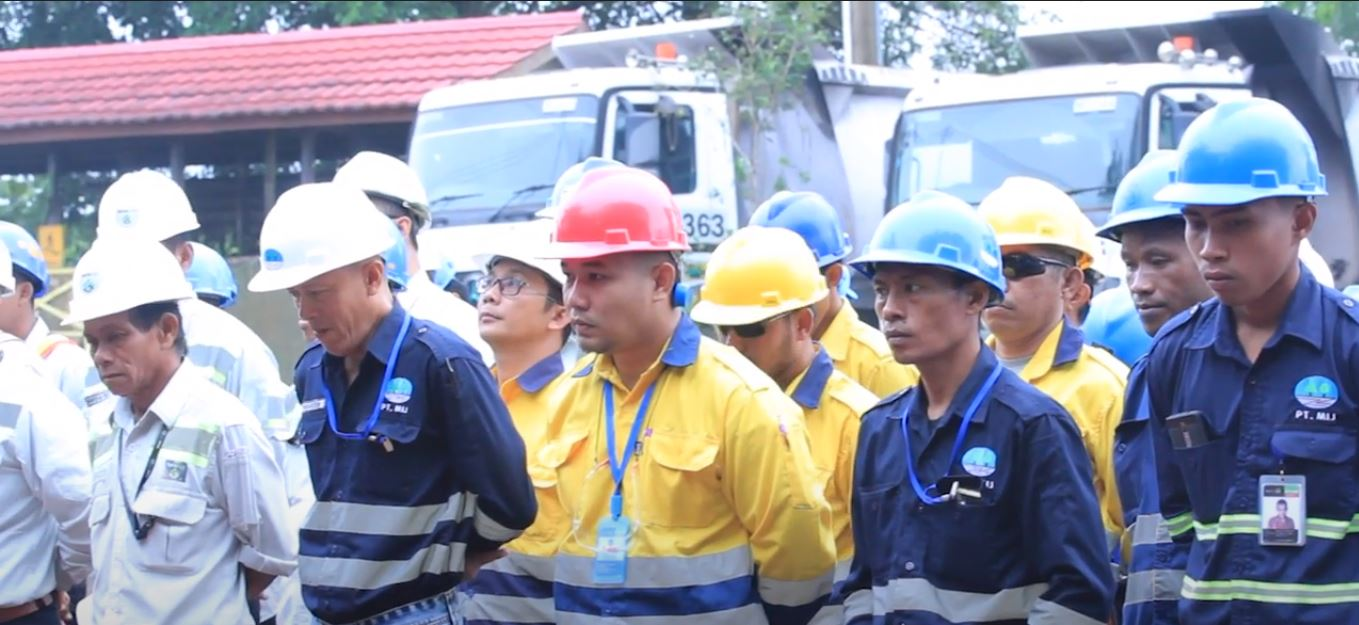Safety Helmet: (1158, 91, 1349, 331), (845, 169, 1005, 407), (247, 180, 415, 380), (47, 222, 211, 410), (554, 150, 690, 363), (692, 207, 838, 399)
